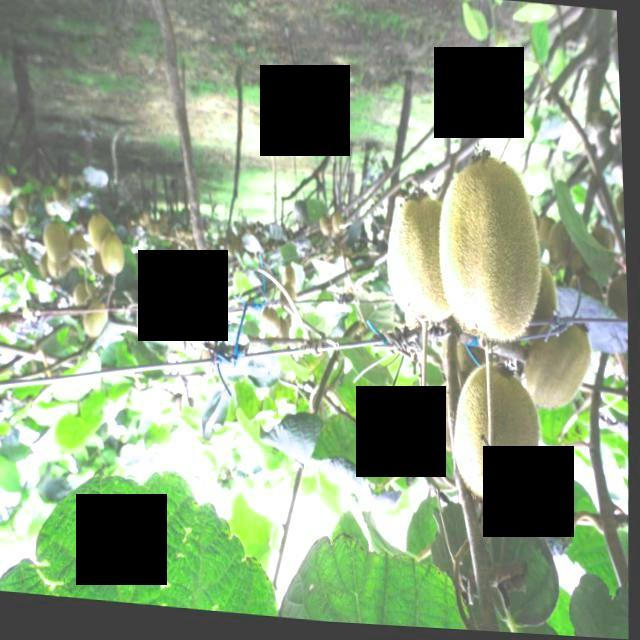kiwi: (438, 144, 556, 351), (450, 365, 547, 524), (388, 190, 468, 333), (523, 312, 601, 415)
